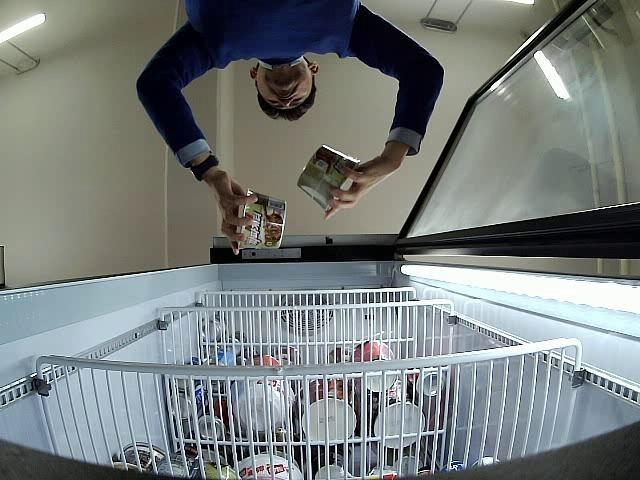03_chapagetti_L: (296, 144, 360, 213), (238, 188, 287, 250)
